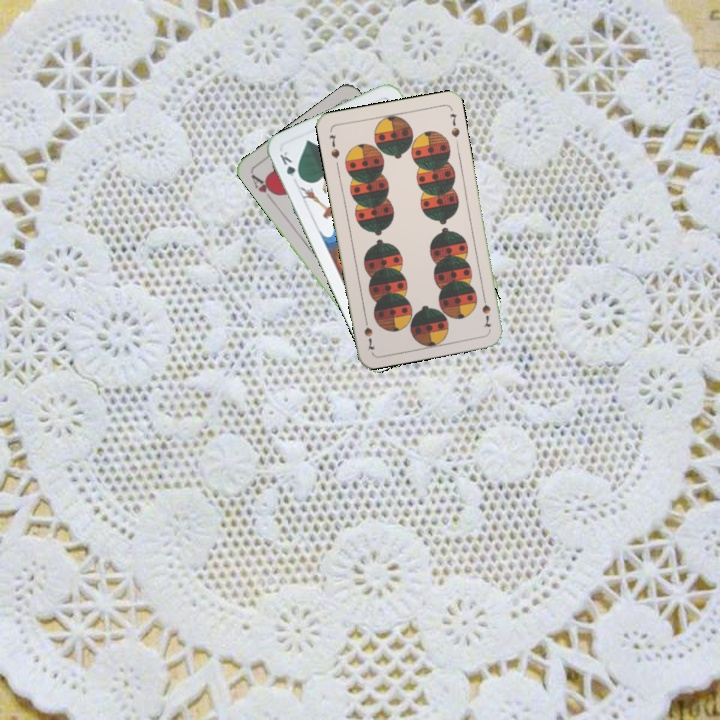GK: (275, 148, 304, 183)
HA: (247, 170, 280, 205)
S7: (478, 291, 494, 330), (325, 130, 342, 161)
